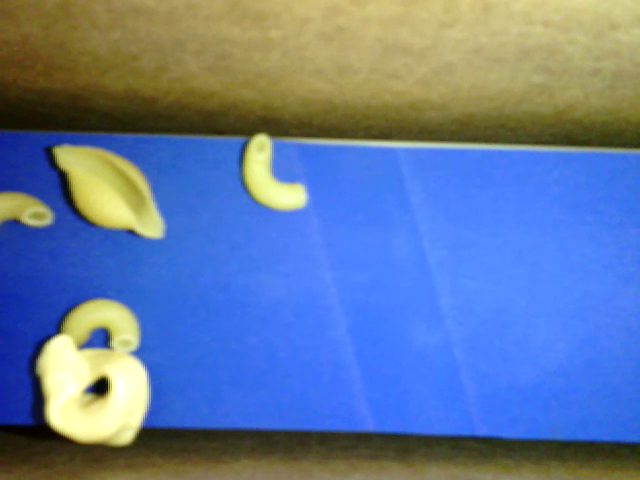elbow: (242, 134, 307, 213), (62, 297, 141, 353), (1, 191, 57, 228)
shell: (53, 142, 165, 240)
tortellini: (41, 335, 152, 447)
